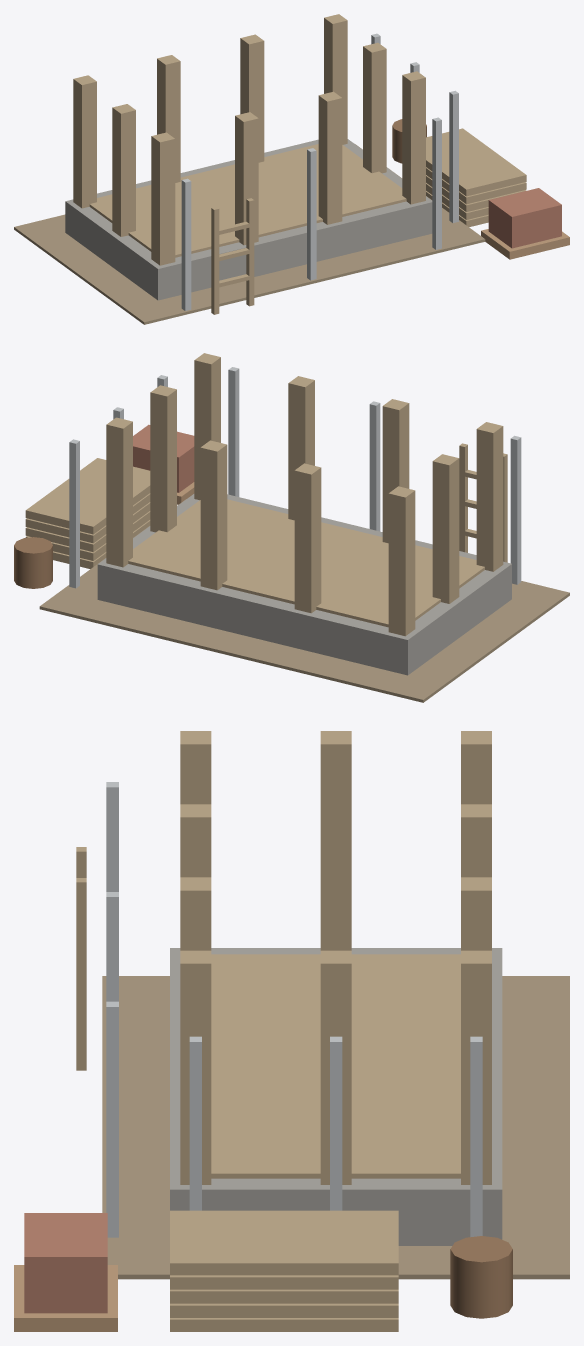
Rendered from garden_shed_site_3.glb.
3 renders of one model, top to bottom at view 1: azimuth 30°, elevation 25°; view 2: azimuth 150°, elevation 25°; view 3: azimuth 270°, elevation 25°, orthographic. The views are drawn at different scales.
Parts seen in each view (by area): view 1: body; view 2: body; view 3: body.
Boxes of the visible parts, x1,y1,x2,y2 form: body: (14,14,569,324); body: (14,353,569,702); body: (14,731,569,1331).
Bounding box in the file's own units: 1.2 × 0.4486 × 0.8.
